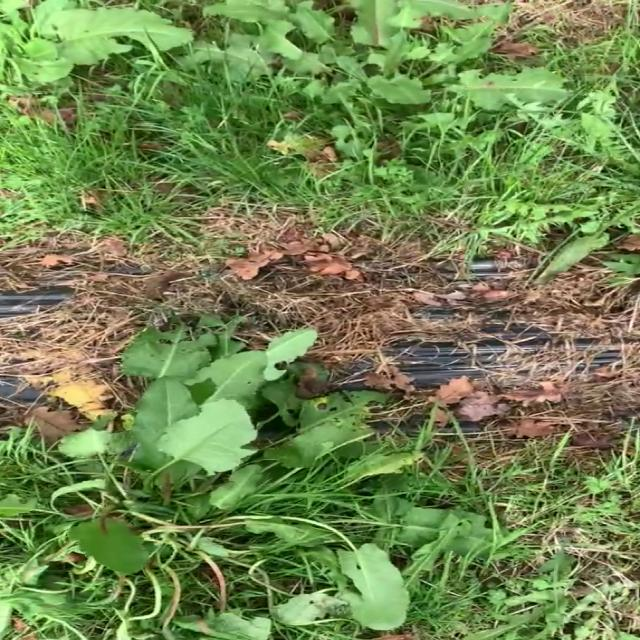organic waste: (3, 317, 510, 640), (155, 0, 578, 151), (0, 0, 231, 102)
